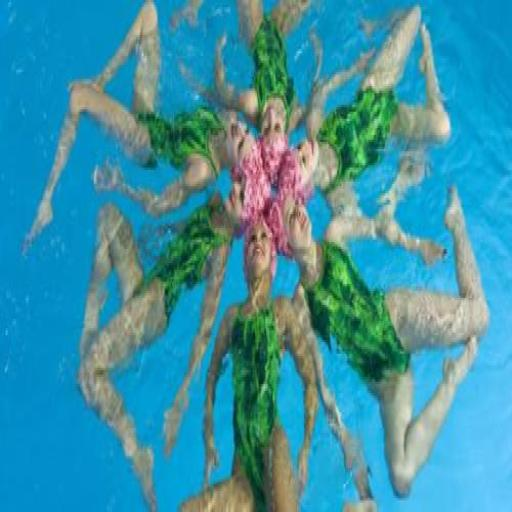swimming: (276, 177, 490, 503), (75, 156, 252, 510), (180, 191, 376, 510), (303, 2, 452, 268)
